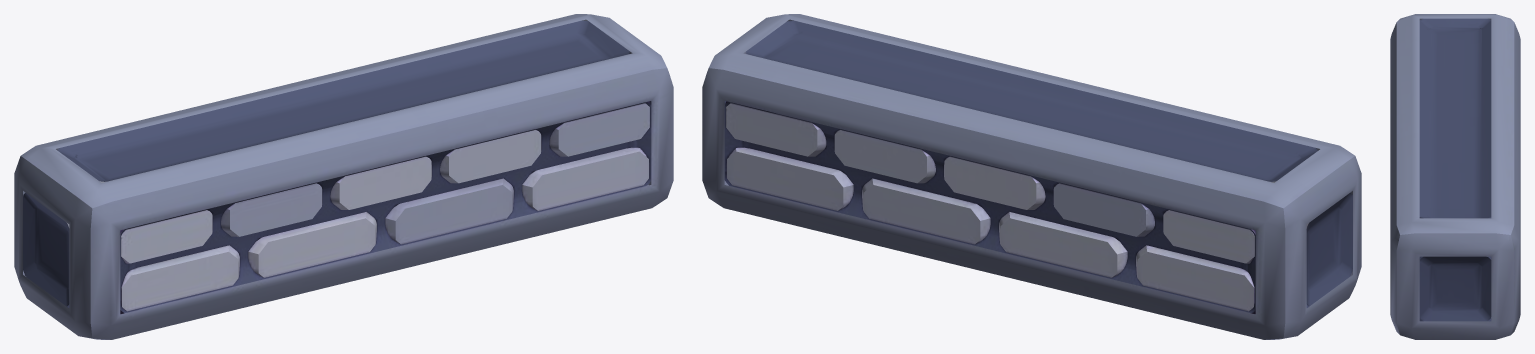
Rendered from tas4.glb.
3 renders of one model, left to right at view 1: azimuth 30°, elevation 25°; view 2: azimuth 150°, elevation 25°; view 3: azimuth 270°, elevation 25°, orthographic. The views are drawn at different scales.
Parts seen in each view (by area): view 1: tas4; view 2: tas4; view 3: tas4.
Part boxes in pixels (box(x1,y1,x2,y2)): tas4: box(14, 14, 673, 339); tas4: box(702, 14, 1361, 339); tas4: box(1390, 14, 1520, 339).
Bounding box in the file's own units: 6.14 × 1.51 × 1.51.
Materials: 1 (1 with a texture image).
